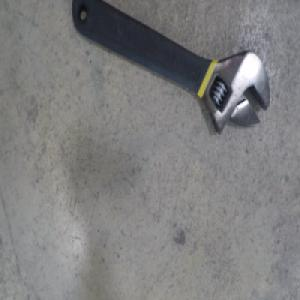AdjustableWrench: (73, 0, 272, 133)
